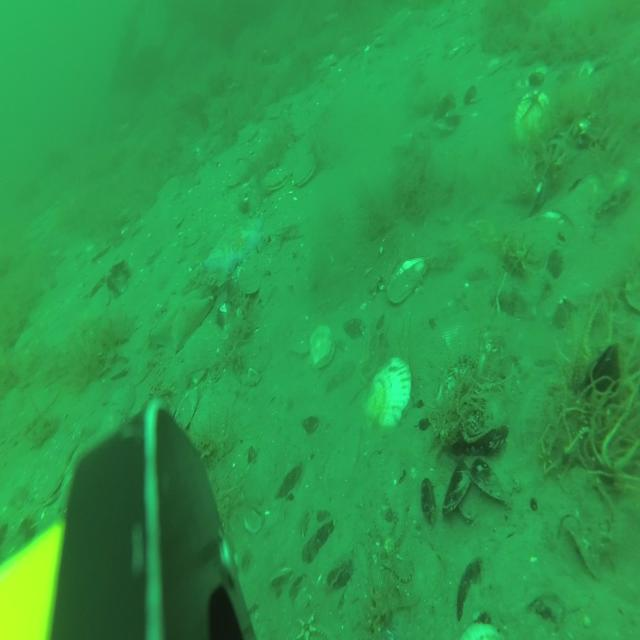scallop: (361, 355, 413, 429), (383, 256, 429, 302), (515, 88, 553, 142), (309, 324, 333, 367), (296, 151, 318, 189), (261, 162, 291, 189)
starfish: (148, 282, 214, 353), (202, 210, 272, 271)
